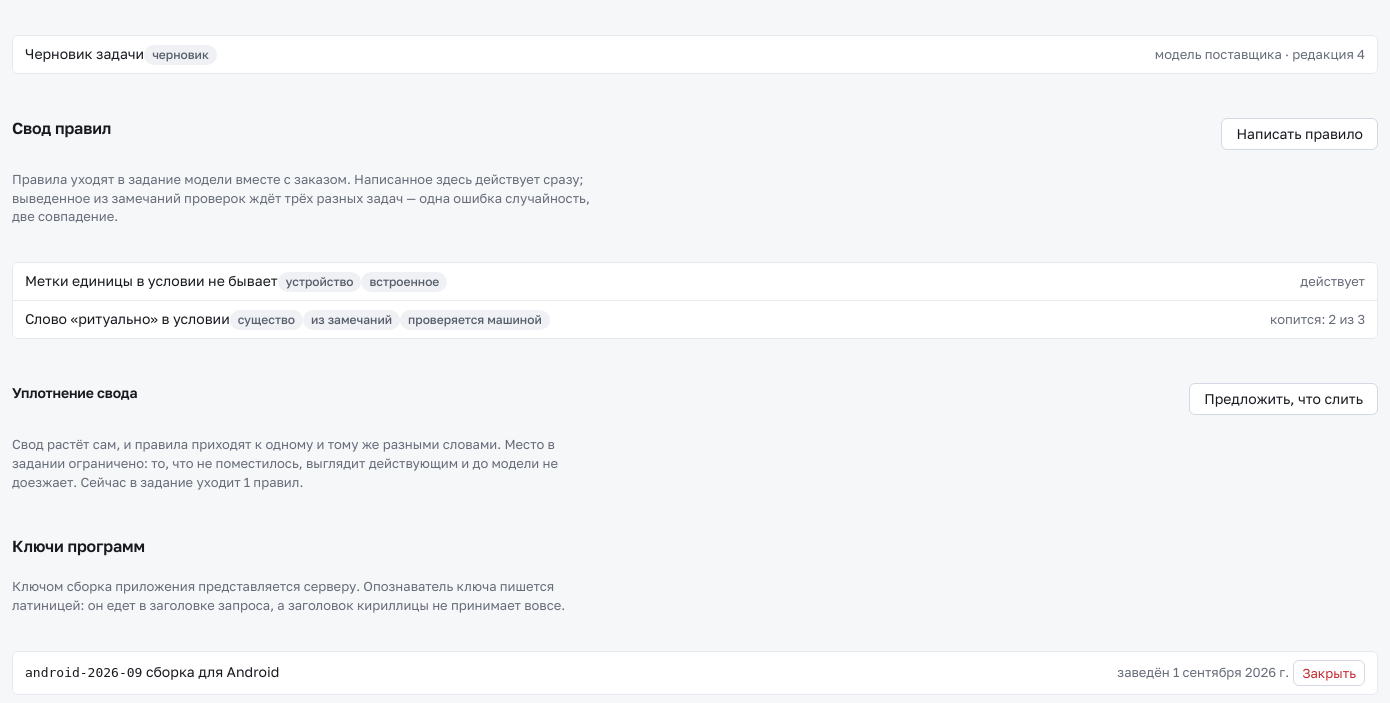
мастерская › у предиката показаны только его доводы
(page scrolled)
Click the text "Слово «ритуально» в условии". click: (287, 320)
box: [25,309,550,330]
(page scrolled)
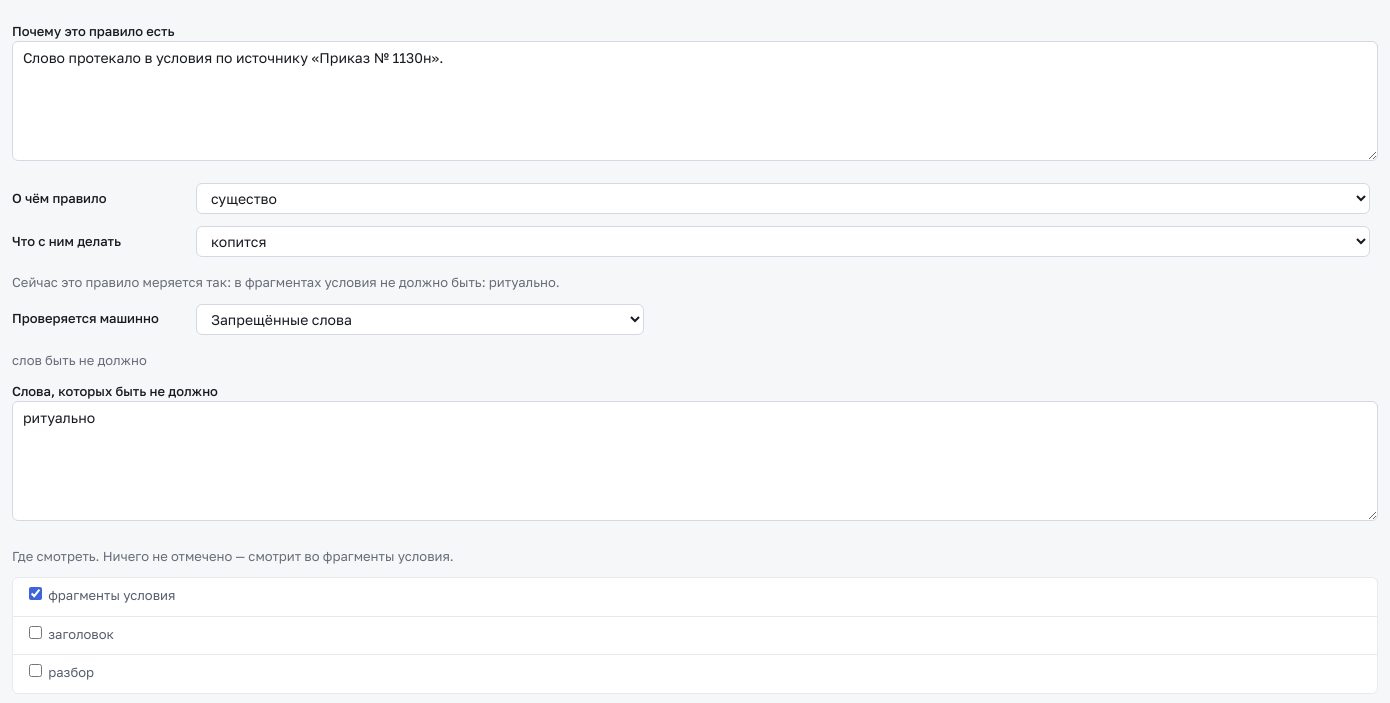
Expected: the field labelled "Не больше" is not shown
Select "Длина текста" in the dropdown labelled "Проверяется машинно". click: (420, 319)
box: [196,304,644,335]
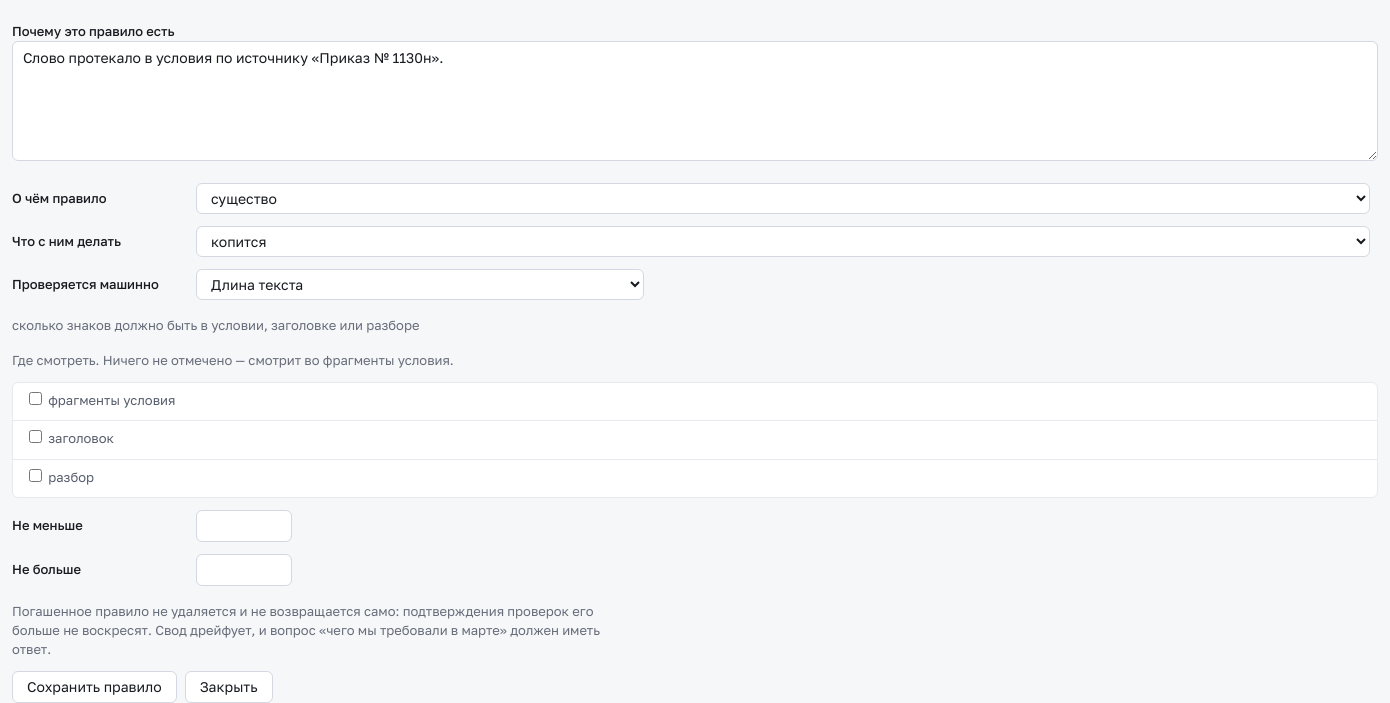
Result: the field labelled "Не больше" is shown at [196,554,292,586]
Result: the text labelled "Слова, которых быть не должно" is gone
# И «только составитель» подписано там, где это правда.
Select "Выражение" in the dropdown labelled "Проверяется машинно". click: (420, 284)
box: [196,269,644,300]
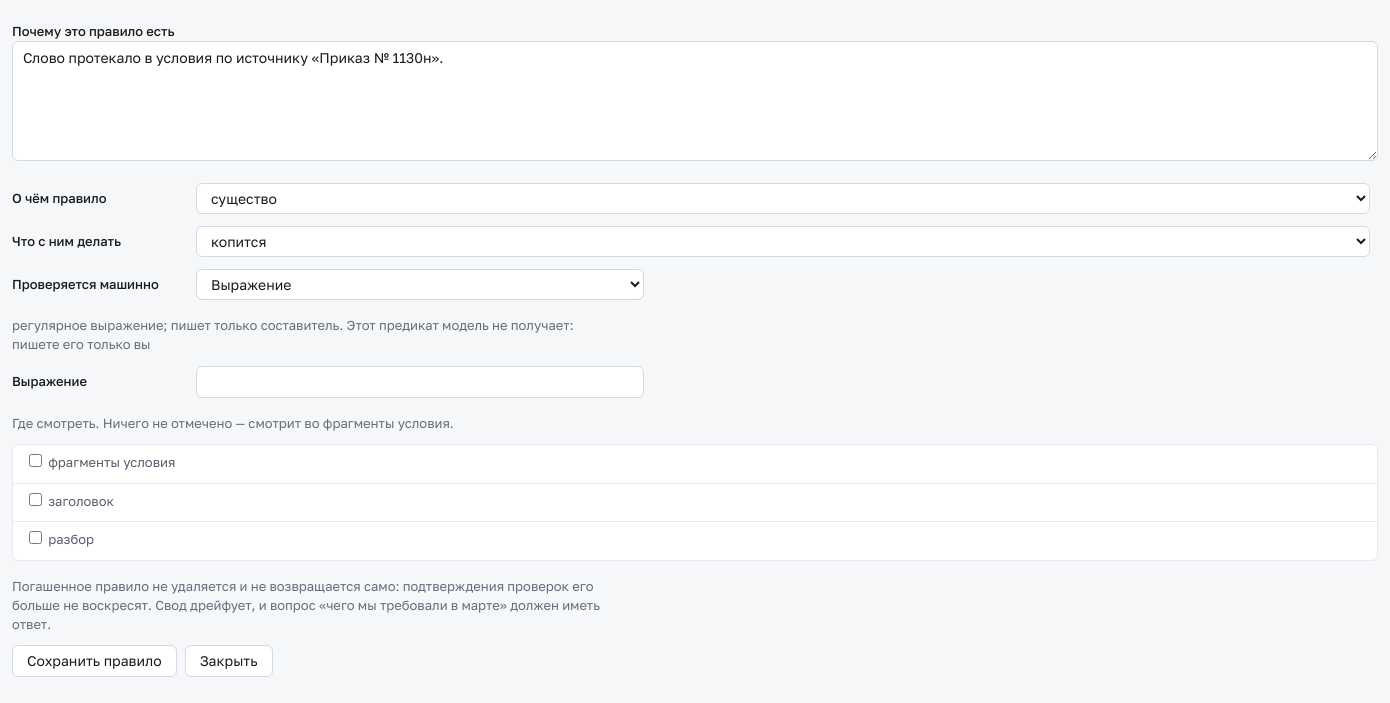
Result: the text "предикат модель не получает" is shown at [12,317,574,352]
